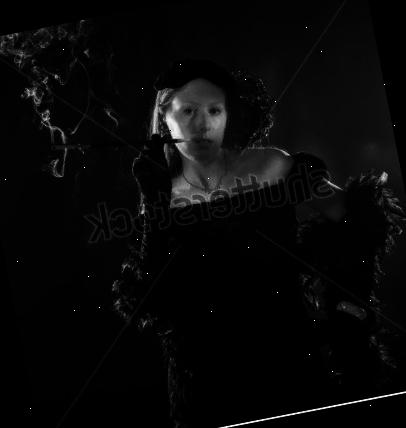smoke: (0, 17, 116, 146)
